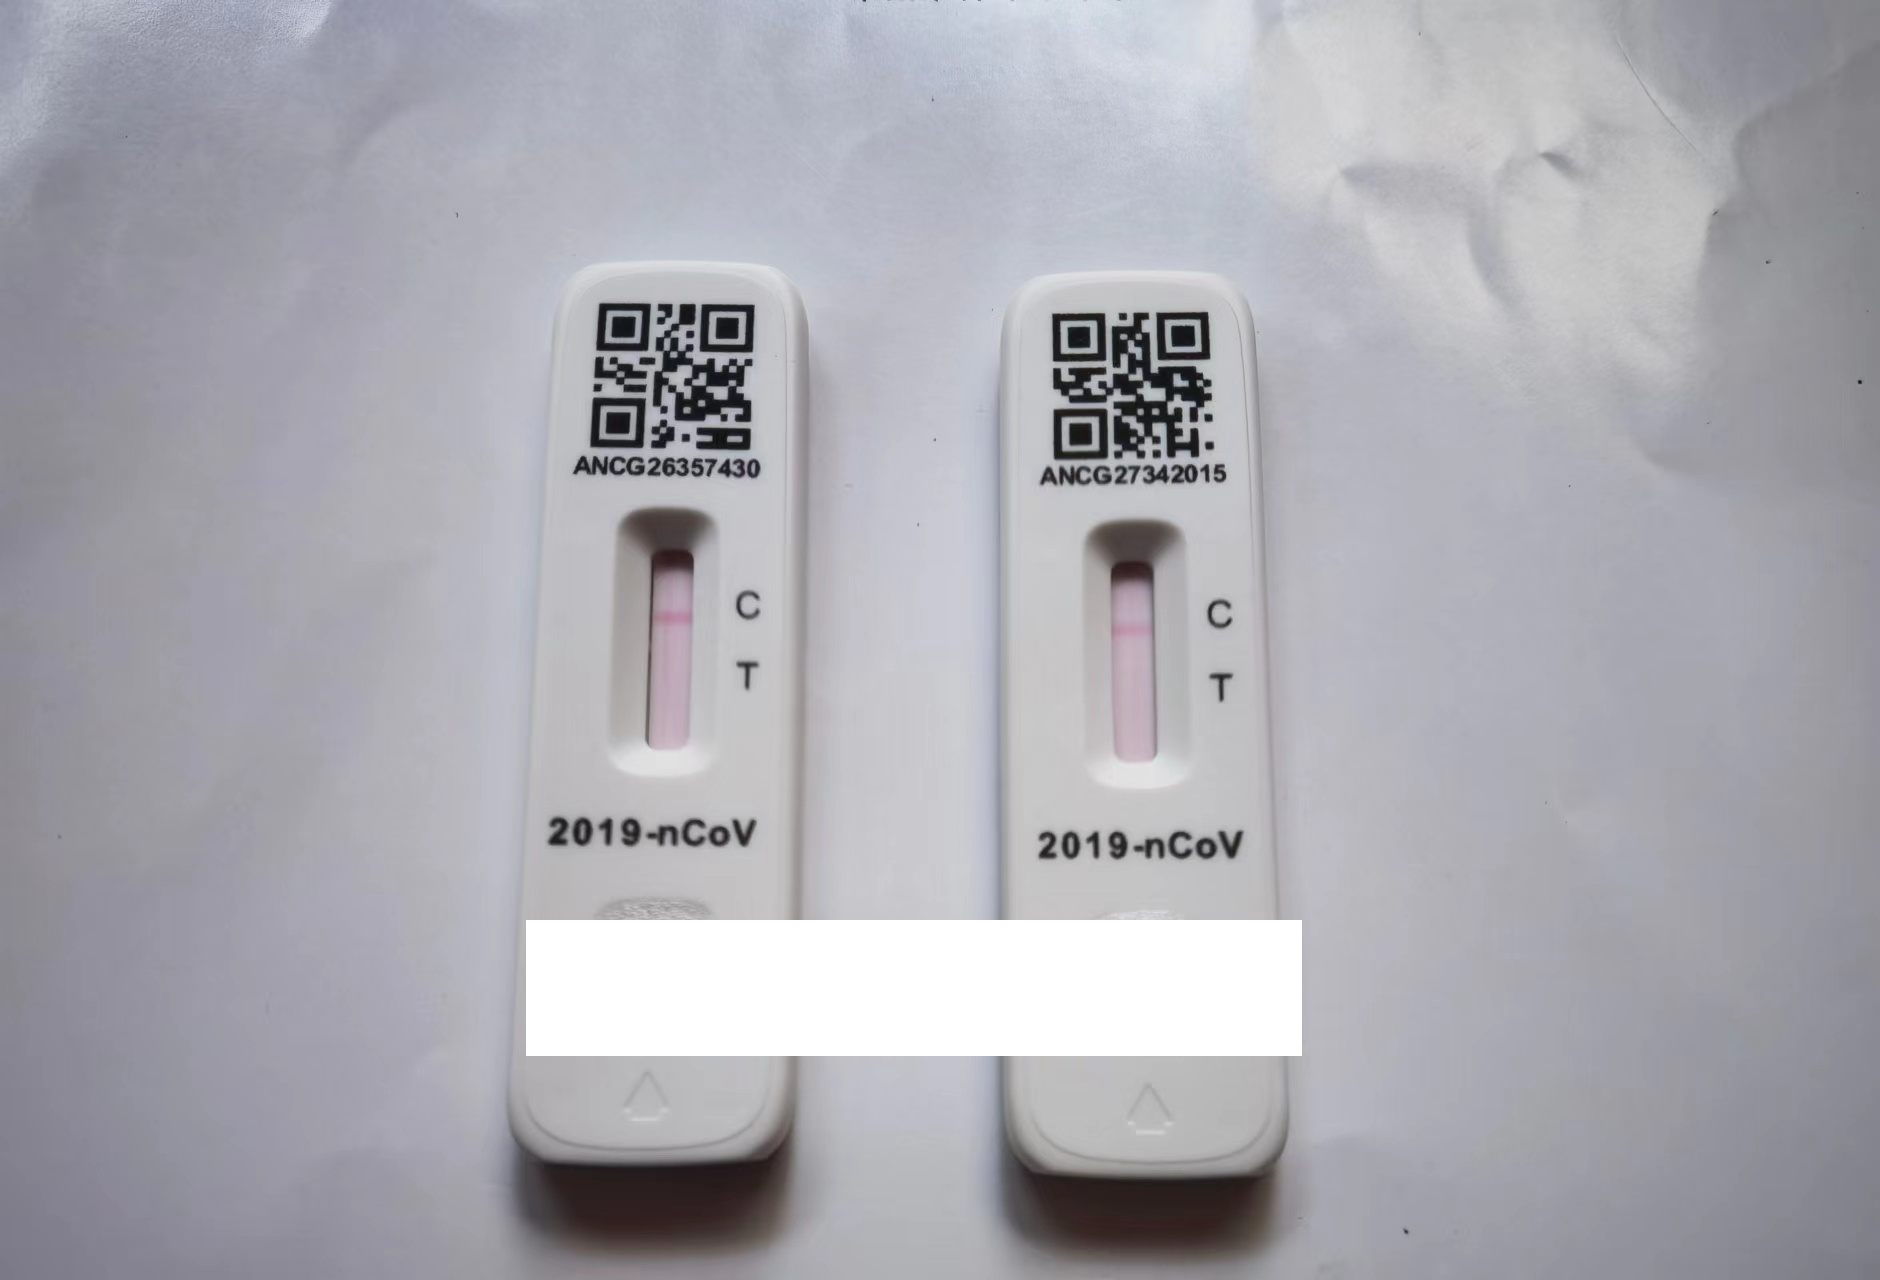negative: (610, 487, 721, 773), (1081, 521, 1187, 791)
